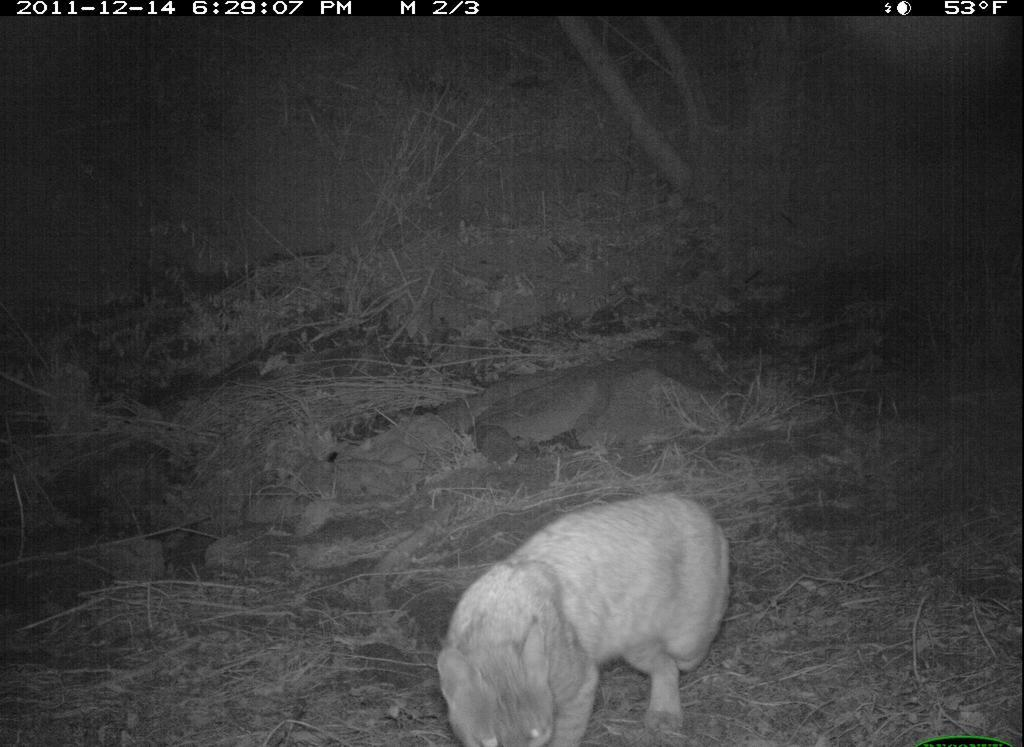bobcat: (429, 483, 743, 747)
